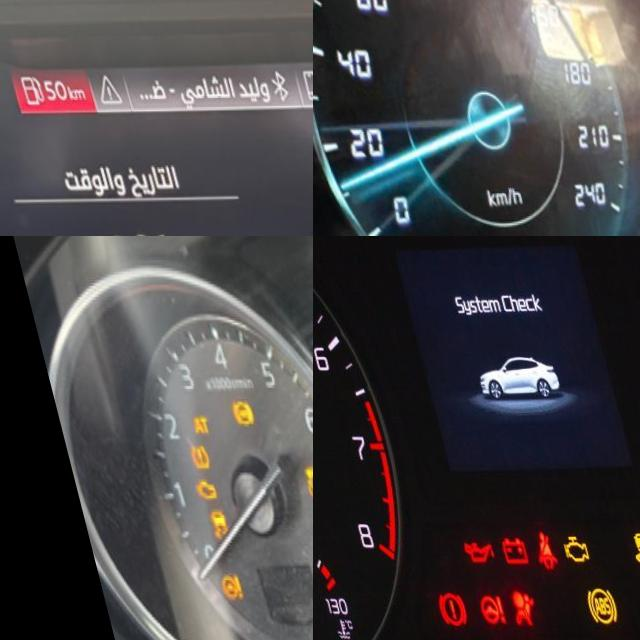Electronic Power Steering: (194, 572, 222, 603)
